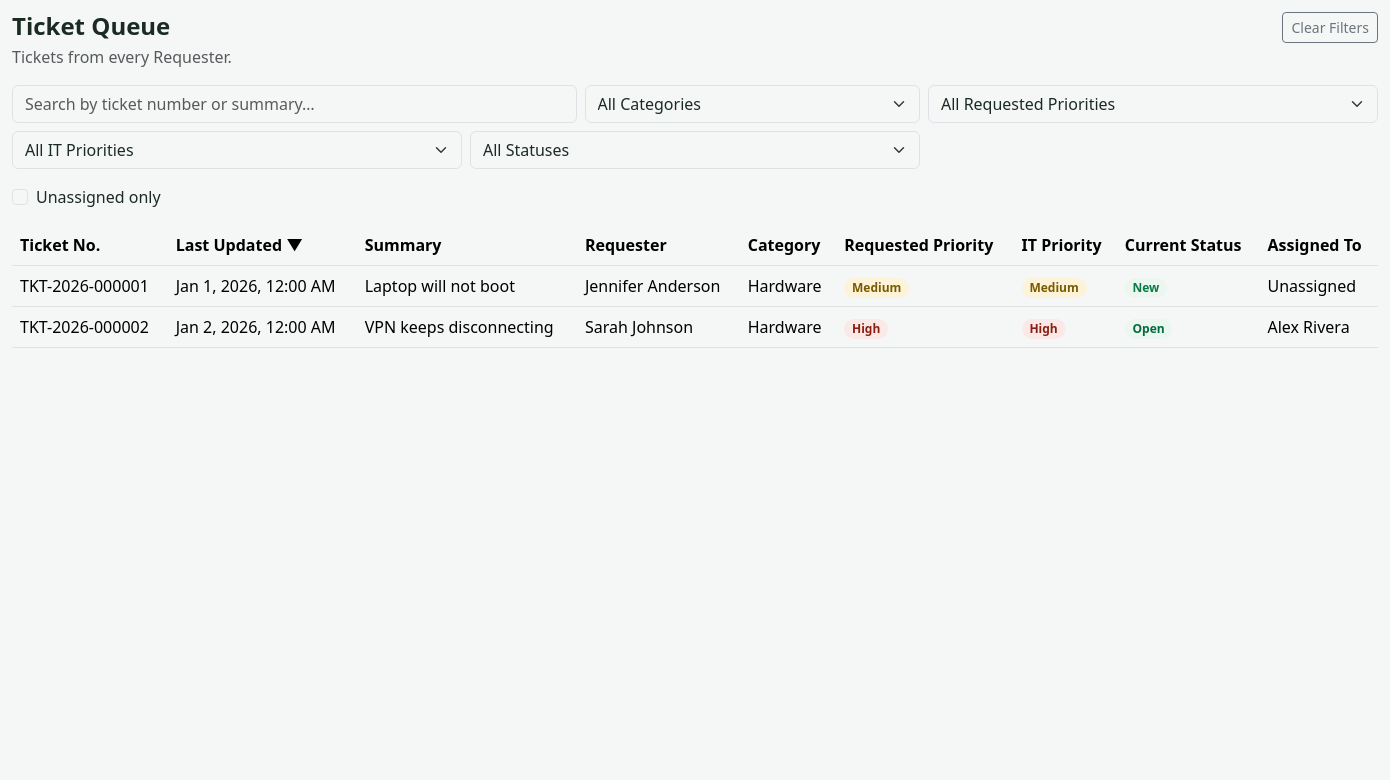
it: StaffTicketQueue › opens the real Staff Ticket Detail screen when a row is clicked
Click the text "TKT-2026-000001" at {"x": 90, "y": 286}, box [12,265,168,306]
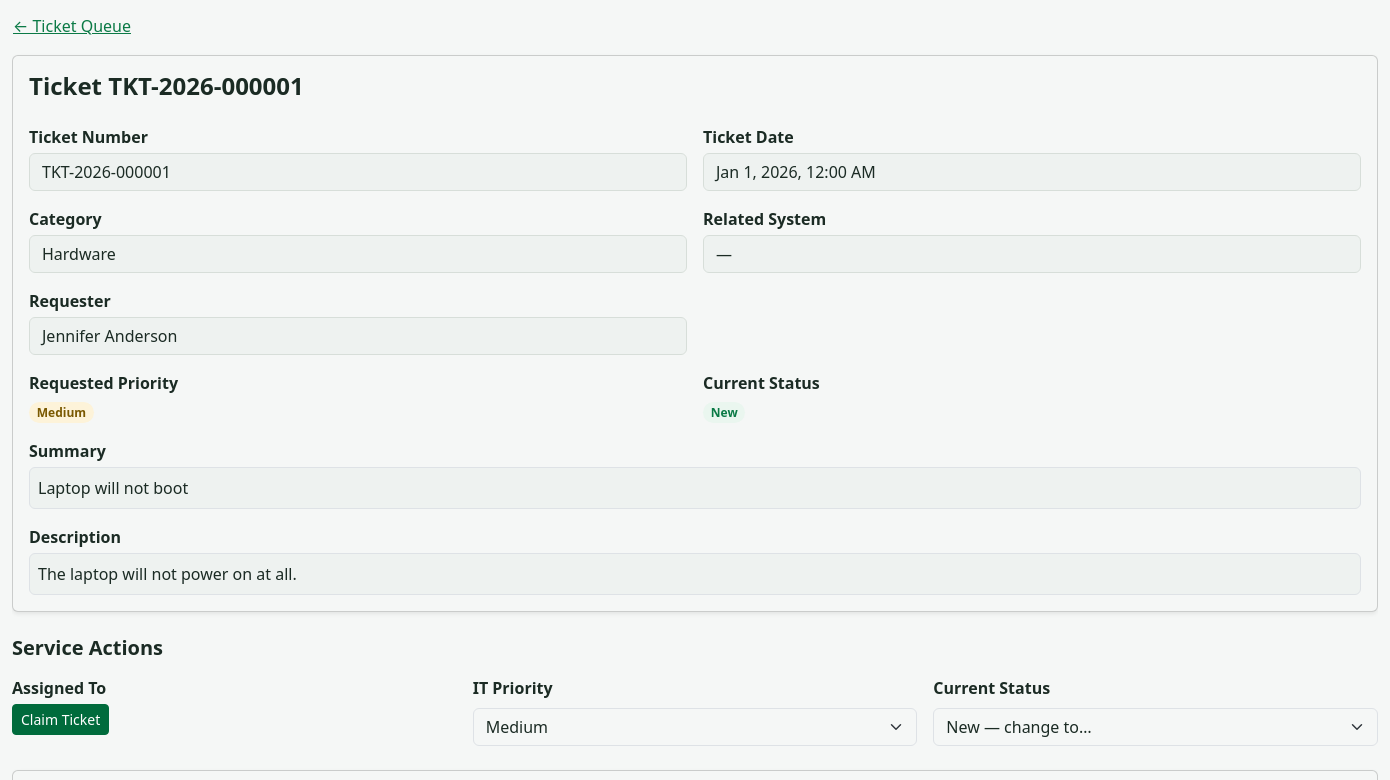
Expected: the heading "Ticket TKT-2026-000001" is shown, [29,69,304,102]
Expected: the button "Claim Ticket" is shown, [12,704,109,735]
